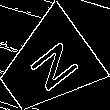N_SW: (16, 35, 78, 97)
